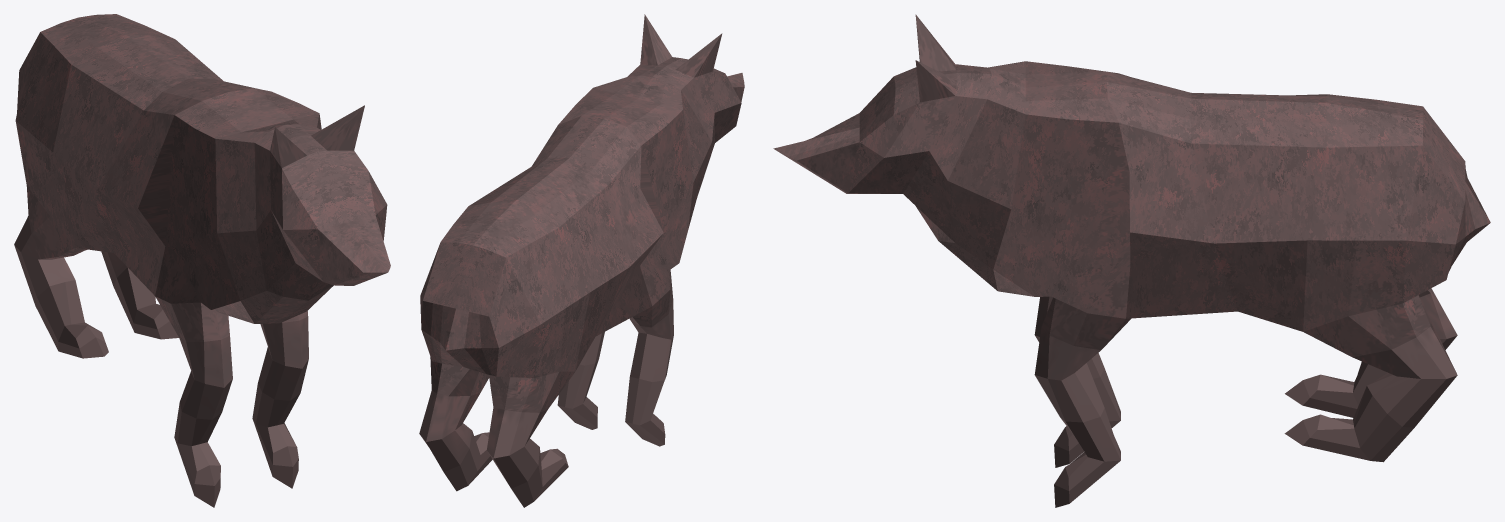
The model's file is piesblendtex_000033.obj.
The picture shows the model from 3 angles, left to right: view 1: azimuth 30°, elevation 25°; view 2: azimuth 150°, elevation 25°; view 3: azimuth 270°, elevation 25°; orthographic projection. The views are drawn at different scales.
Visible parts, largest first — view 1: Cube; view 2: Cube; view 3: Cube.
Part boxes in pixels (bbox=[...]): Cube: bbox=[14, 14, 390, 507]; Cube: bbox=[419, 14, 744, 507]; Cube: bbox=[773, 14, 1490, 507].
Bounding box in the file's own units: 2.56 × 6.61 × 9.54.
